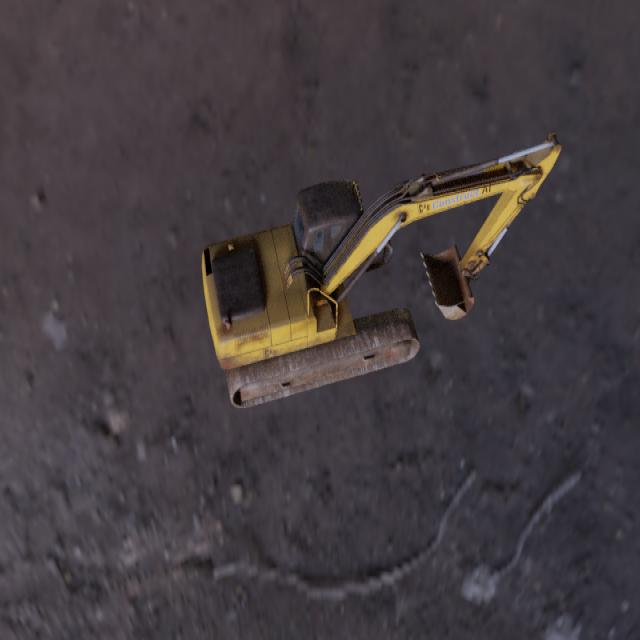excavator: (201, 129, 561, 408)
